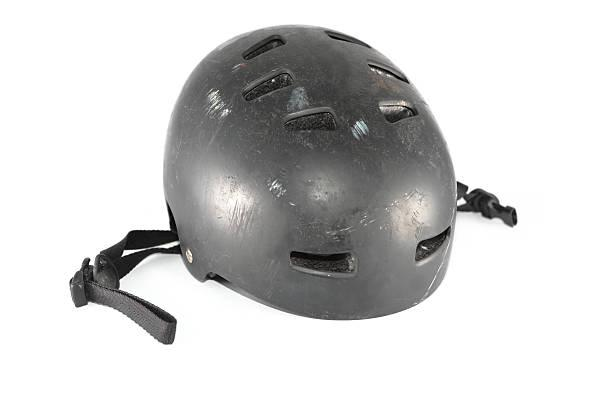helmet: (137, 0, 488, 360)
